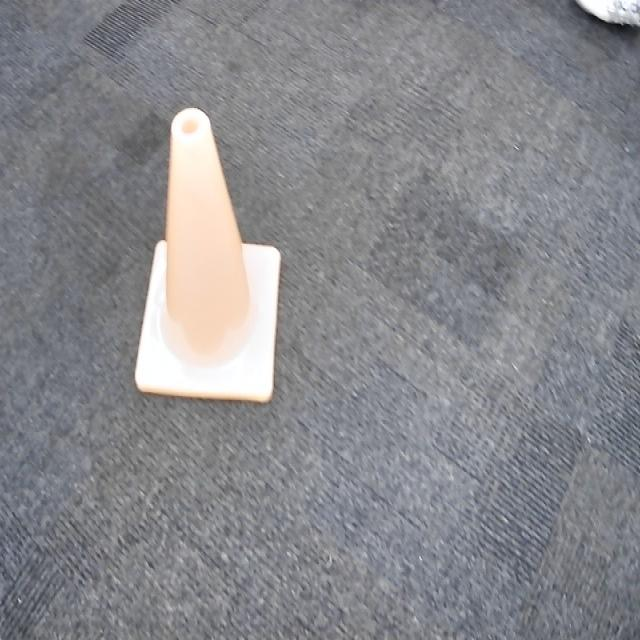cone: (129, 100, 285, 410)
